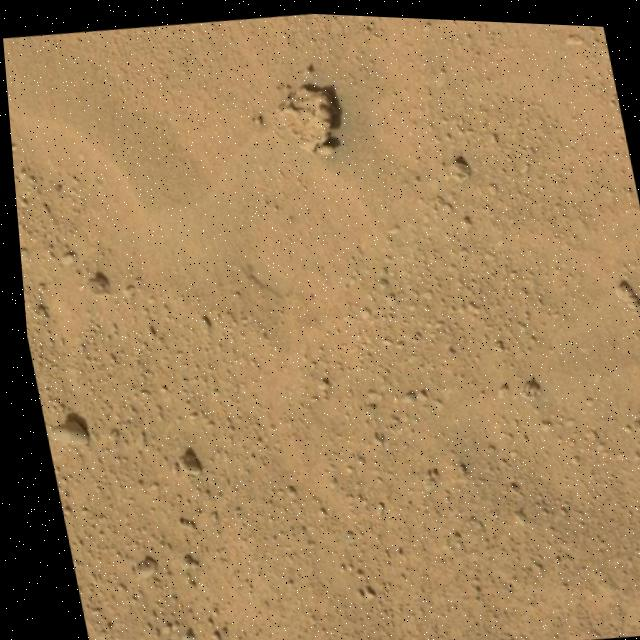mars-rocks: (270, 80, 338, 152), (42, 419, 80, 444)
